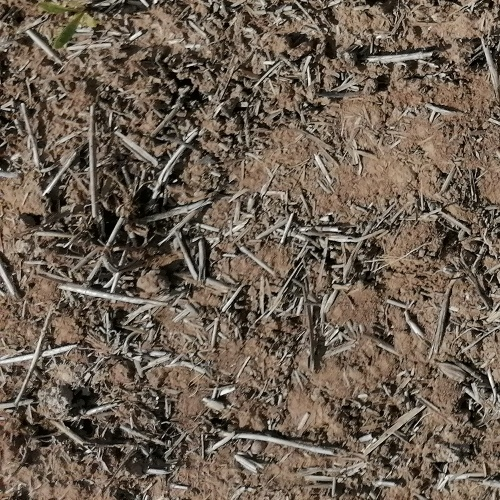beet: (39, 0, 95, 51)
